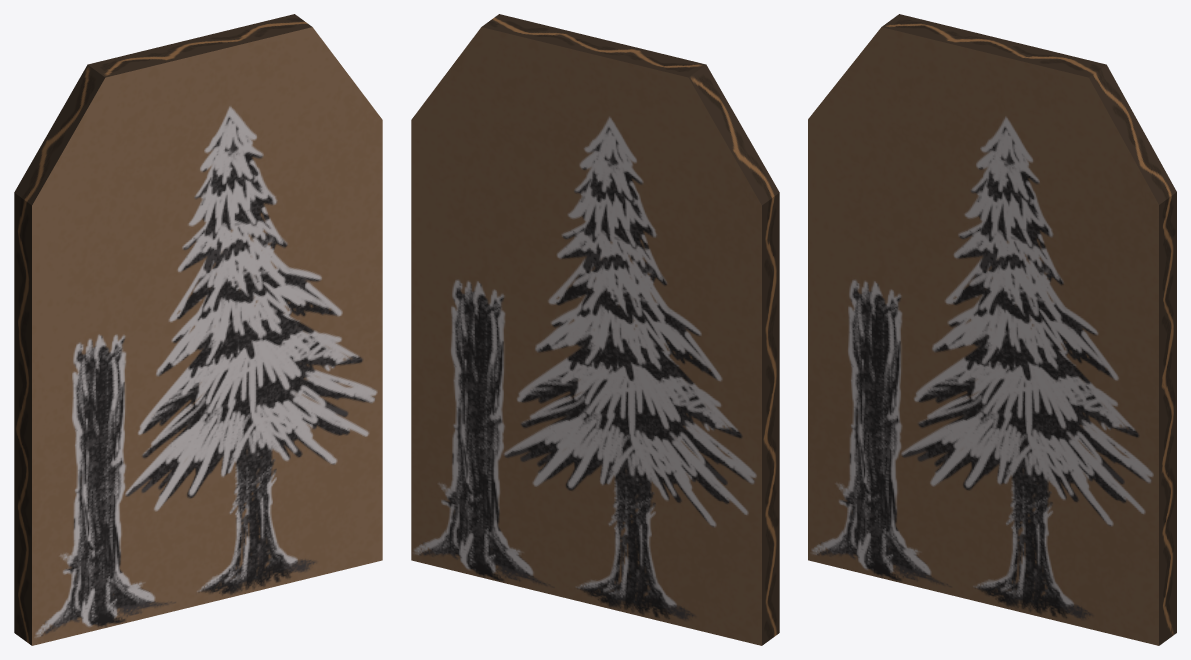
Rendered from Treebox.fbx.
The picture shows the model from 3 angles, left to right: view 1: azimuth 30°, elevation 25°; view 2: azimuth 150°, elevation 25°; view 3: azimuth 330°, elevation 25°; orthographic projection.
Parts seen in each view (by area): view 1: Tree; view 2: Tree; view 3: Tree.
Part boxes in pixels (left/top/right/bottom): Tree: left=14, top=14, right=382, bottom=645; Tree: left=411, top=14, right=779, bottom=645; Tree: left=808, top=14, right=1176, bottom=645.
Size of the model in its own units: 2 by 3 by 0.1763.
